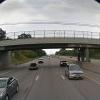Bridge: (6, 26, 97, 60)
